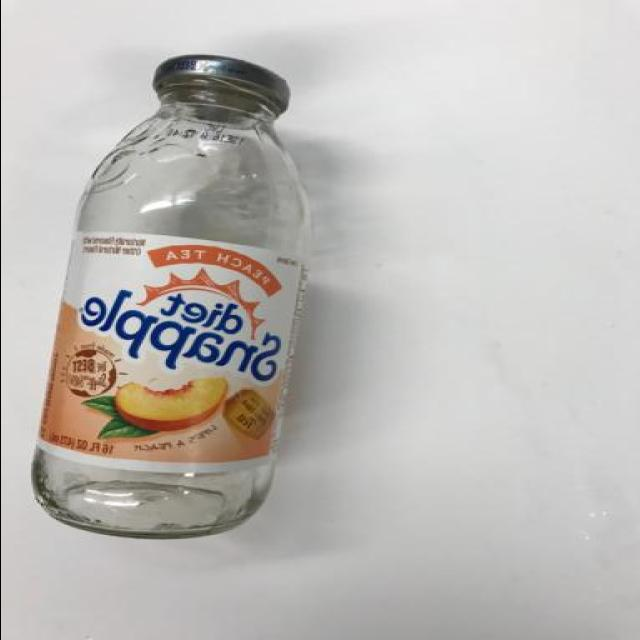glass: (25, 39, 359, 592)
